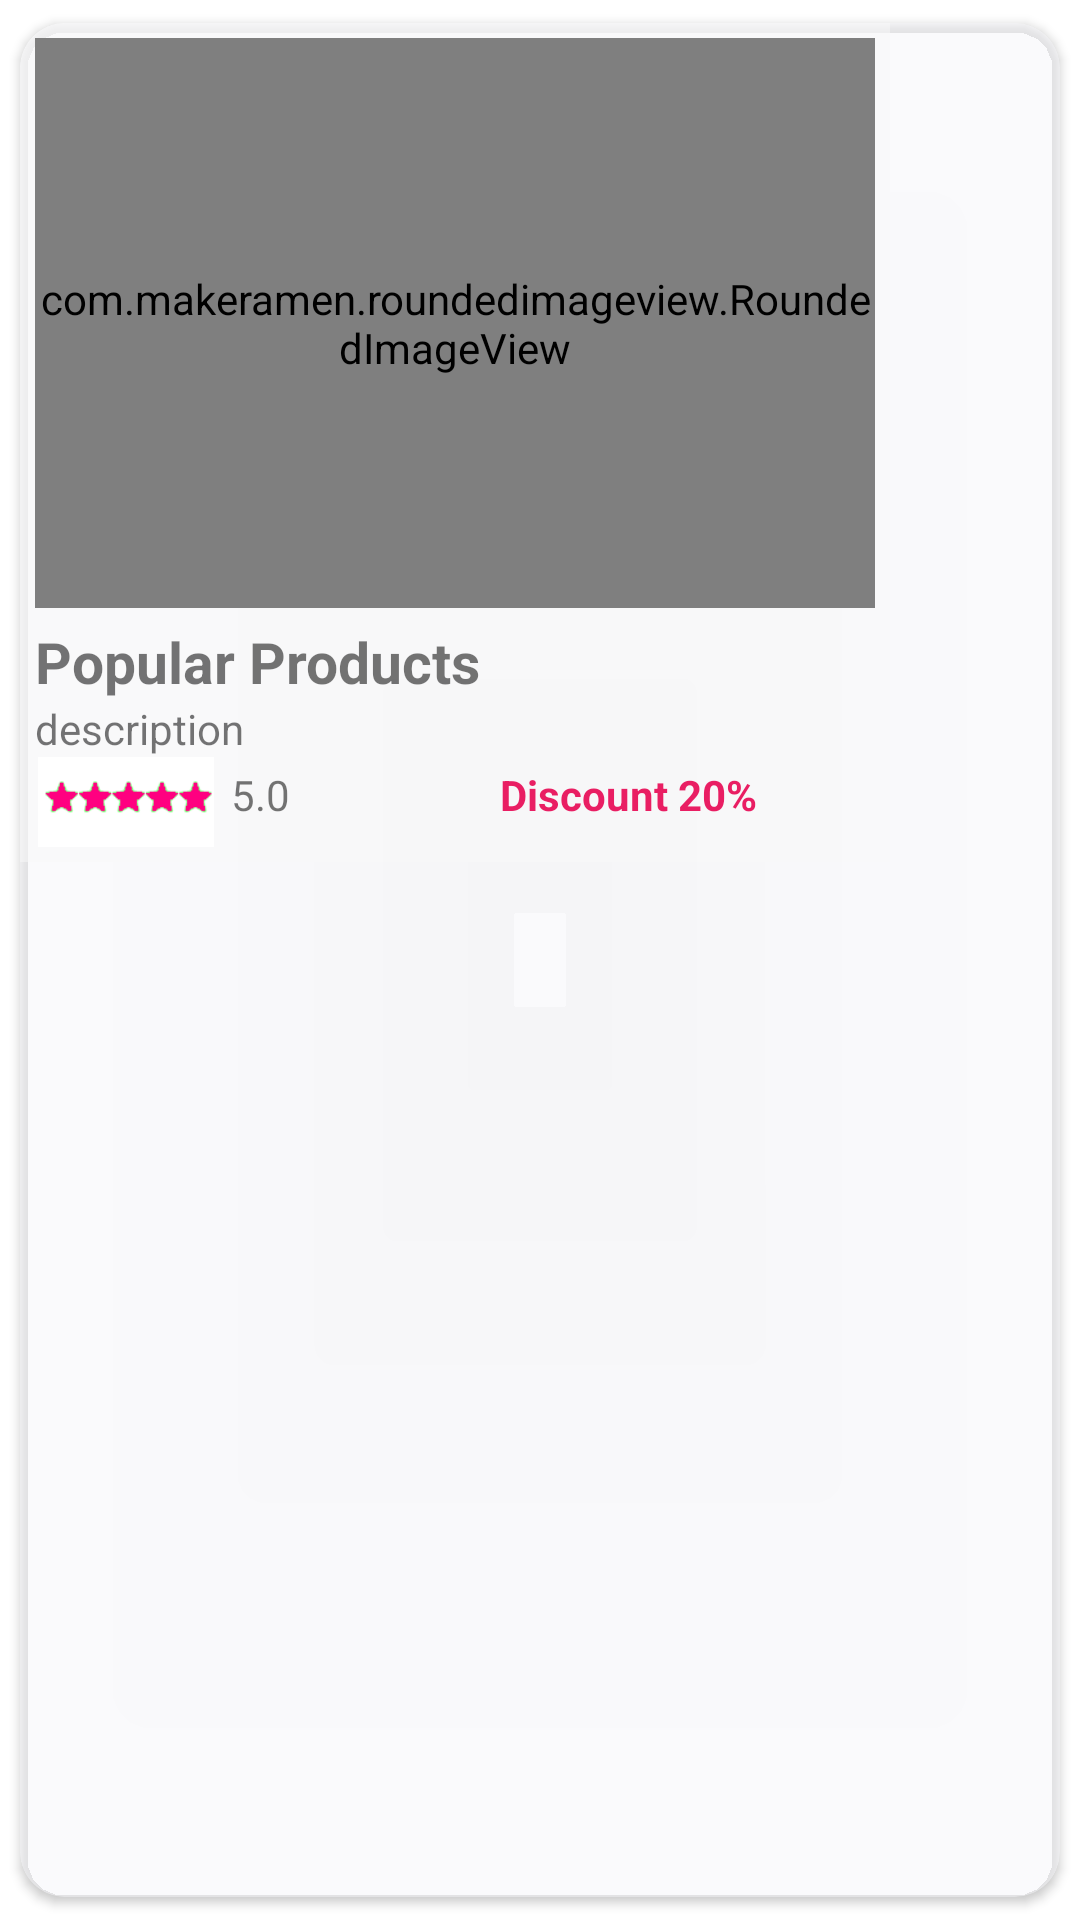

Locate icon controls on the screen. Image size 1080 × 1920, boxes as (x1, y1, x2, y2).
ratingbar: (45, 781, 212, 813)
